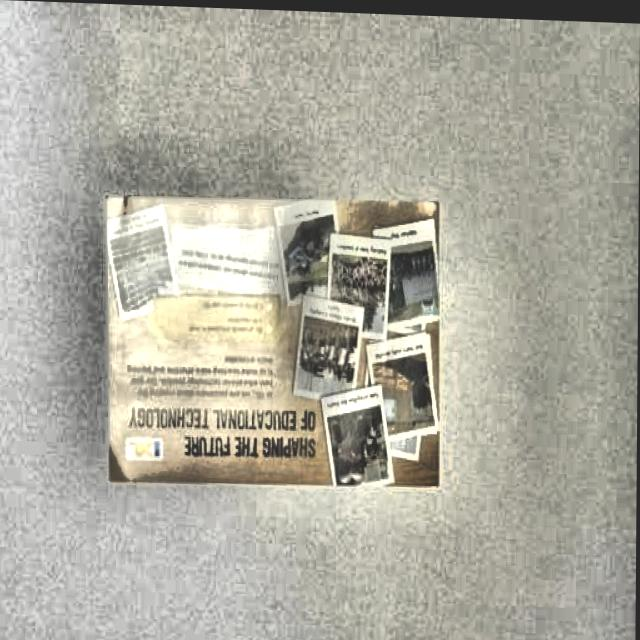Paper: (89, 163, 458, 532)
